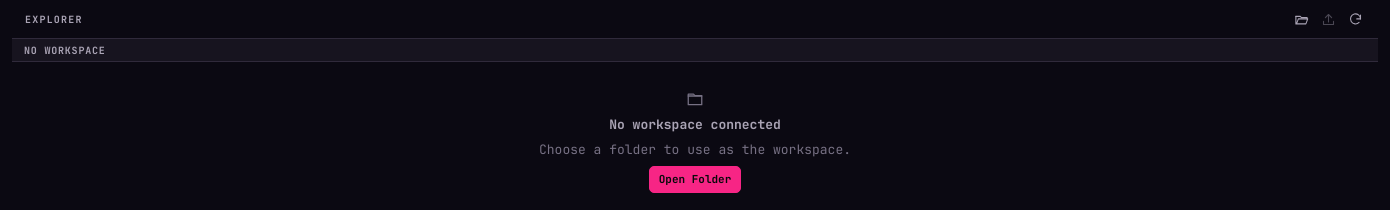
Test: workspace folder selection › opens a folder from the explorer and renders its directory tree
This screenshot has width=1390, height=210.
Step 1. Click the button named "Open folder as workspace" → (1302, 19), box [1289, 6, 1314, 32]
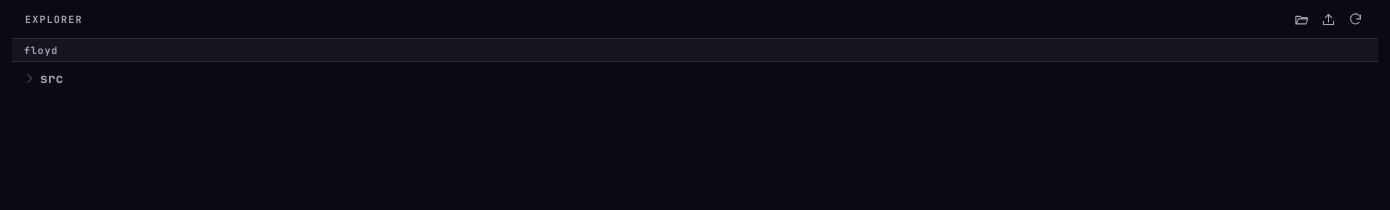
Check: the text titled "/projects/floyd" is shown, box [24, 44, 58, 56]
Check: the text "src" is shown, box [40, 70, 63, 87]
